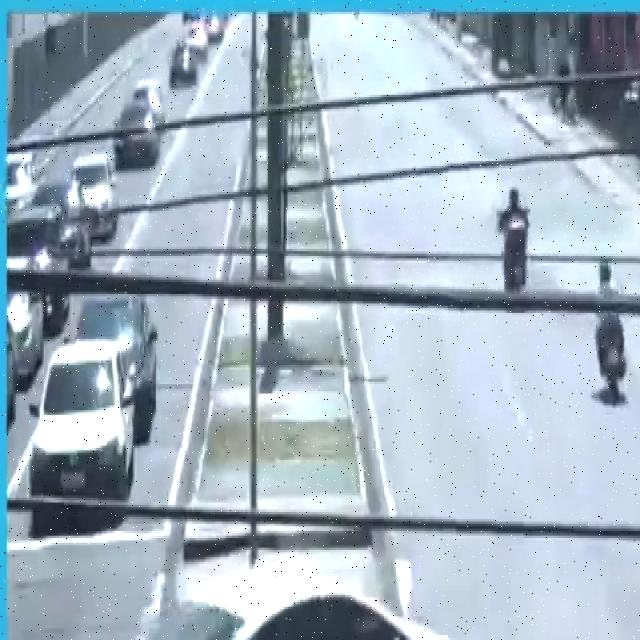biker: (587, 252, 631, 411), (500, 178, 530, 306)
car: (106, 573, 474, 640), (32, 337, 140, 527), (110, 105, 162, 176)
